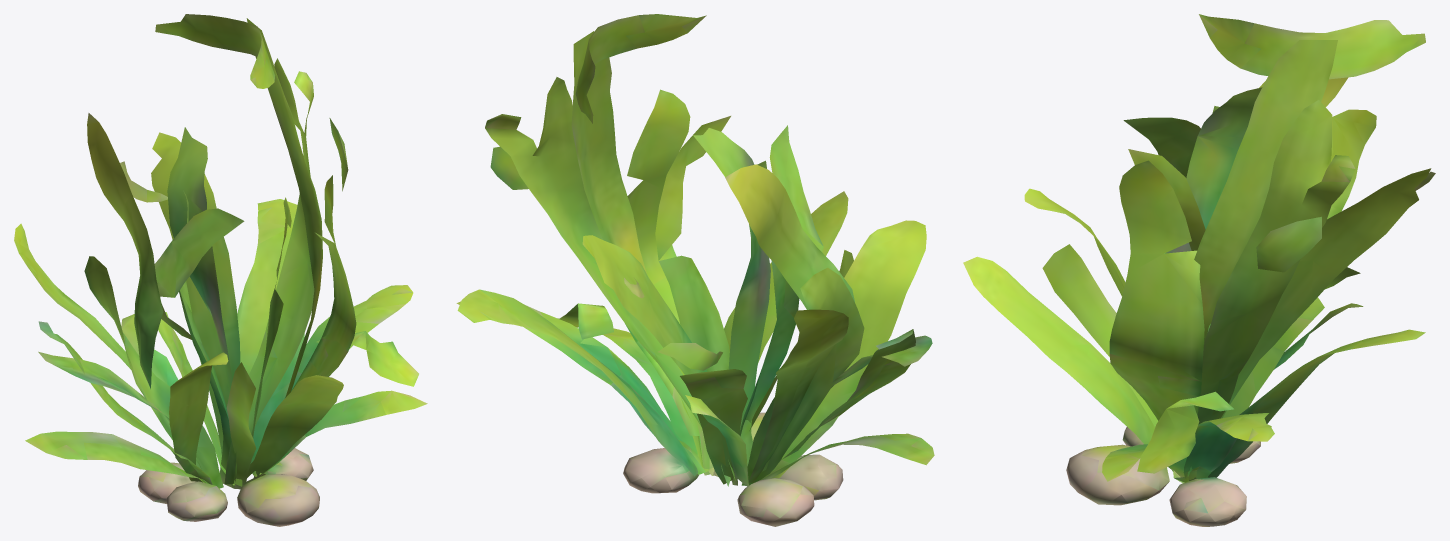
File: alga_2_1500.glb
3 views of the same model, side by side, from view 1: azimuth 30°, elevation 25°; view 2: azimuth 150°, elevation 25°; view 3: azimuth 270°, elevation 25° (orthographic). The views are drawn at different scales.
Parts seen in each view (by area): view 1: alga_2_malla; view 2: alga_2_malla; view 3: alga_2_malla.
Boxes of the visible parts, x1=… form: alga_2_malla: x1=14, y1=14, x2=427, y2=526; alga_2_malla: x1=456, y1=14, x2=934, y2=526; alga_2_malla: x1=963, y1=14, x2=1435, y2=526.
Size of the model in its own units: 0.2197 by 0.2244 by 0.194.
Materials: 1 (1 with a texture image).
